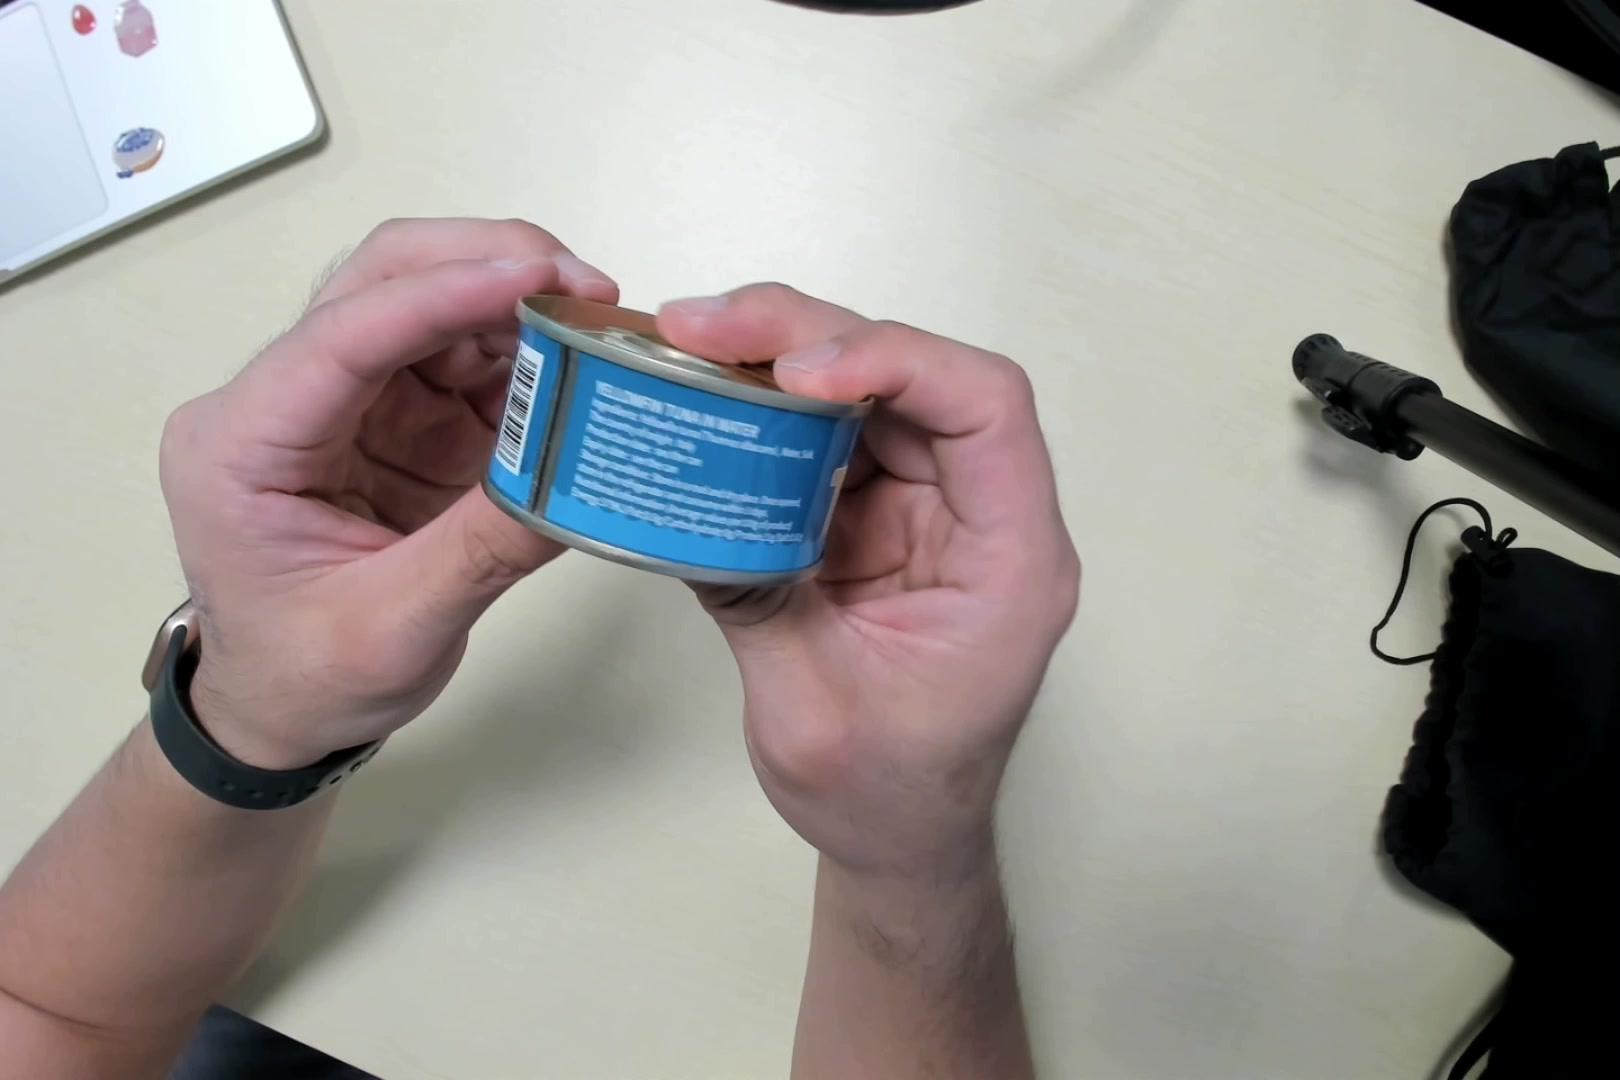CannedTunaDace_0-99g_NonHalal_NonHealthy: (477, 287, 870, 595)
